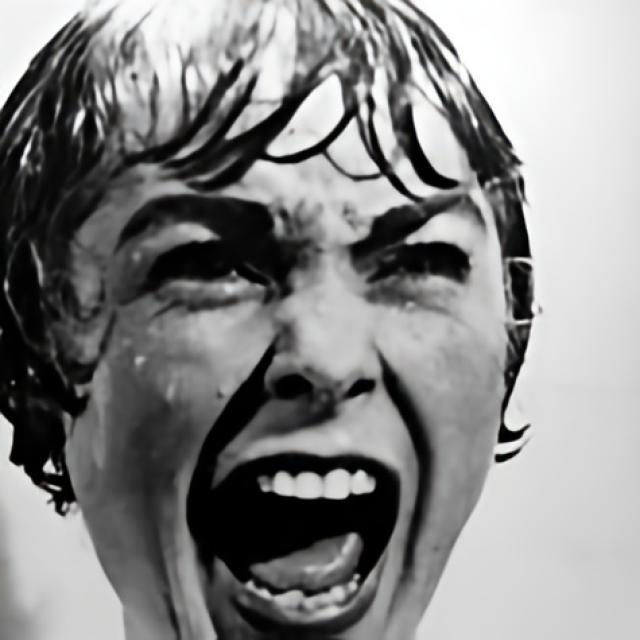Fear: (62, 0, 510, 640)
